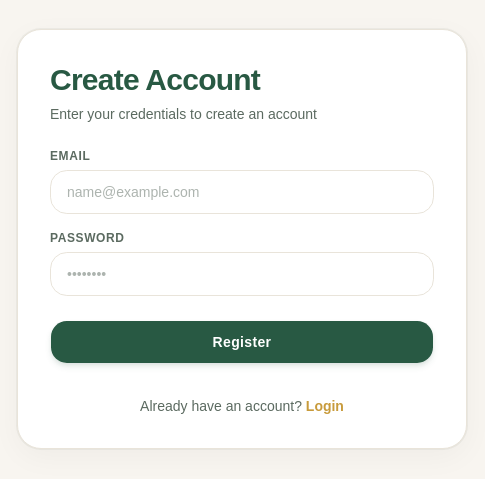
it: Register Component › shows validation error when email is empty
Fill only Password
Type "password123" into the password field labelled "Password" at (242, 274), box [50, 252, 434, 296]
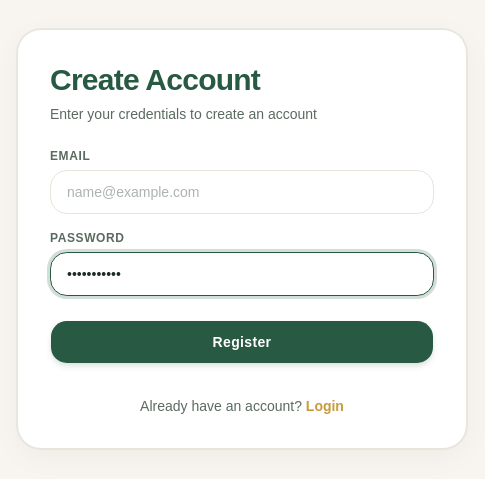
Click the button "Register" at (242, 342), box [50, 320, 434, 364]
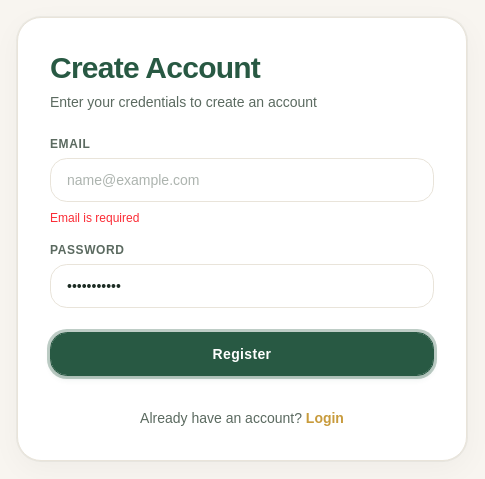
Result: the text "Email is required" is shown at [50, 211, 139, 225]
